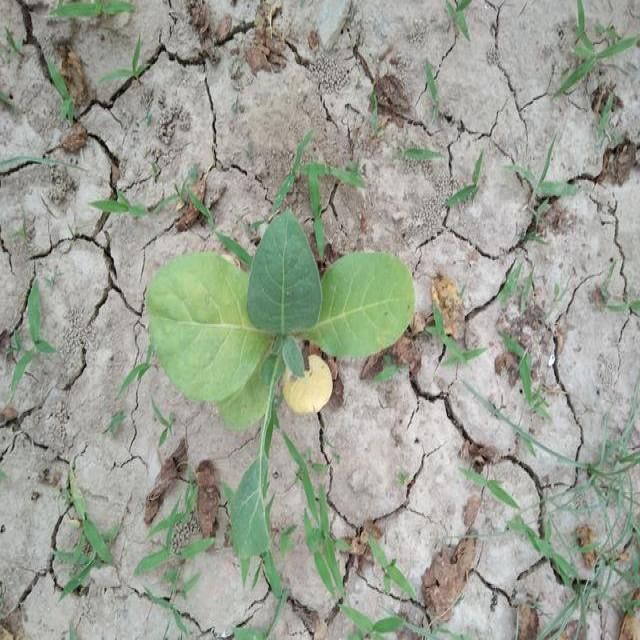crop: (142, 209, 421, 424)
